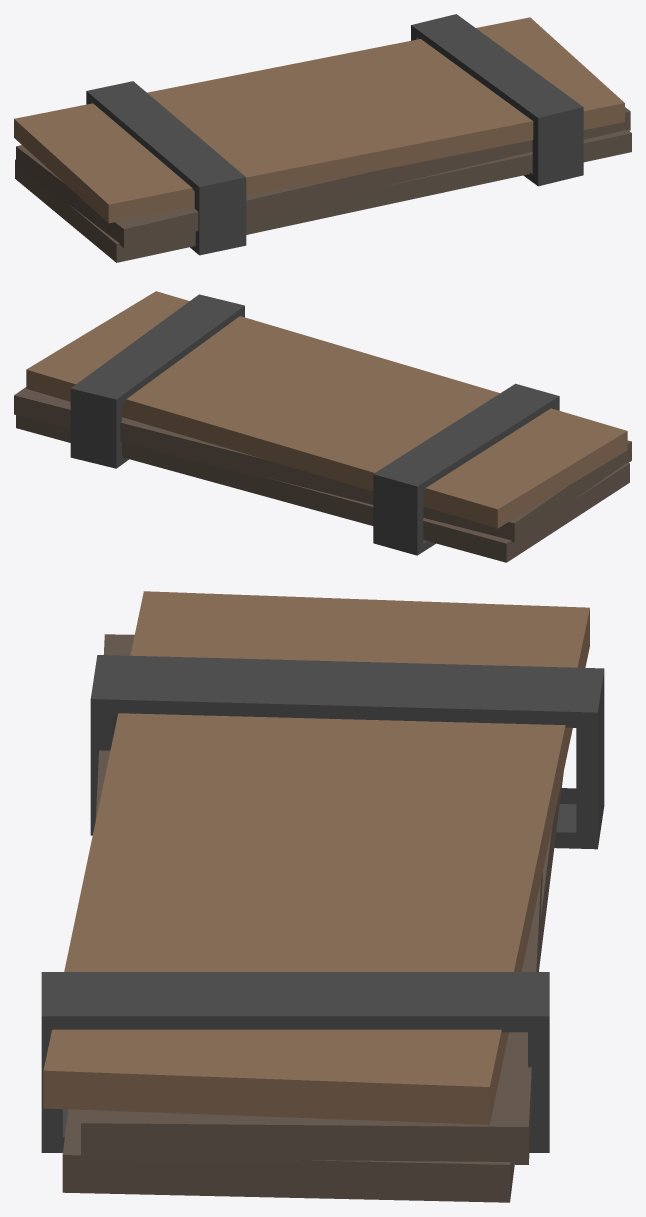
Rendered from Plaquettes.fbx.
3 renders of one model, top to bottom at view 1: azimuth 30°, elevation 25°; view 2: azimuth 150°, elevation 25°; view 3: azimuth 270°, elevation 25°, orthographic. The views are drawn at different scales.
Visible parts, largest first — view 1: Cube; view 2: Cube; view 3: Cube.
Part boxes in pixels (x1,y1,x2,y2): Cube: [14, 14, 631, 262]; Cube: [14, 291, 631, 562]; Cube: [41, 591, 604, 1202].
Size of the model in its own units: 529 by 67.33 by 251.
